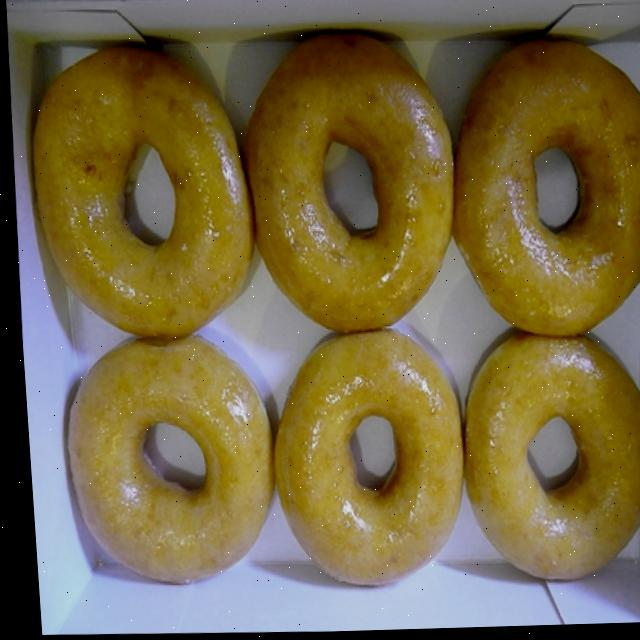炸货点心: (9, 2, 640, 622)
